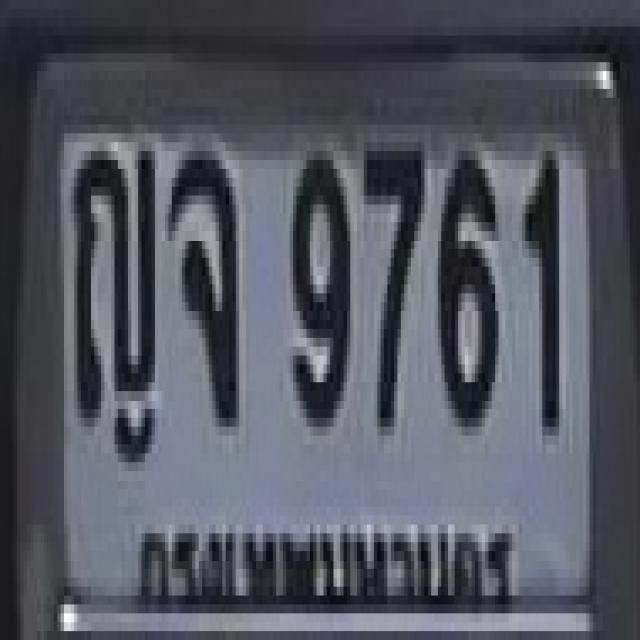1: (522, 142, 556, 427)
6: (435, 142, 495, 418)
7: (360, 138, 421, 422)
9: (290, 142, 347, 418)
A08: (165, 142, 236, 418)
A13: (70, 138, 152, 413)
BKK: (136, 495, 525, 624)
